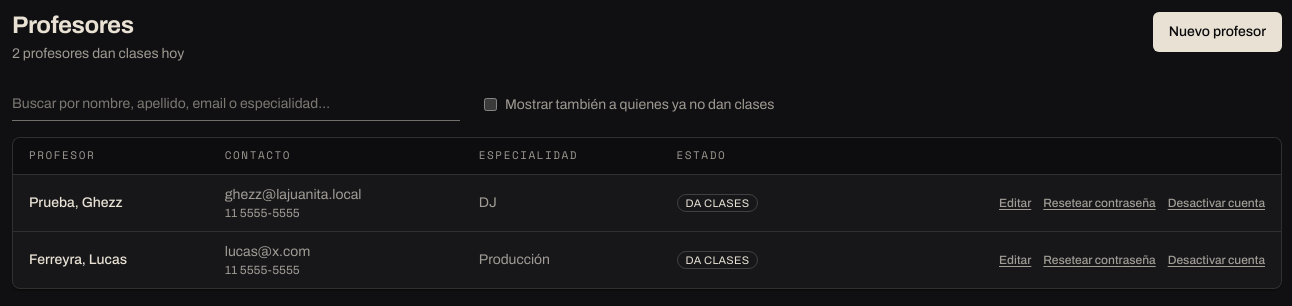
Test: el listado › busca por nombre, email o especialidad, sin acentos, y lo dice cuando nadie coincide
Expected: the text "Ferreyra, Lucas" is shown, [29, 252, 127, 267]
Step 1. Type "produccion" into the search field with placeholder "Buscar por nombre, apellido, email o especialidad…" → (236, 105), box [12, 88, 460, 121]
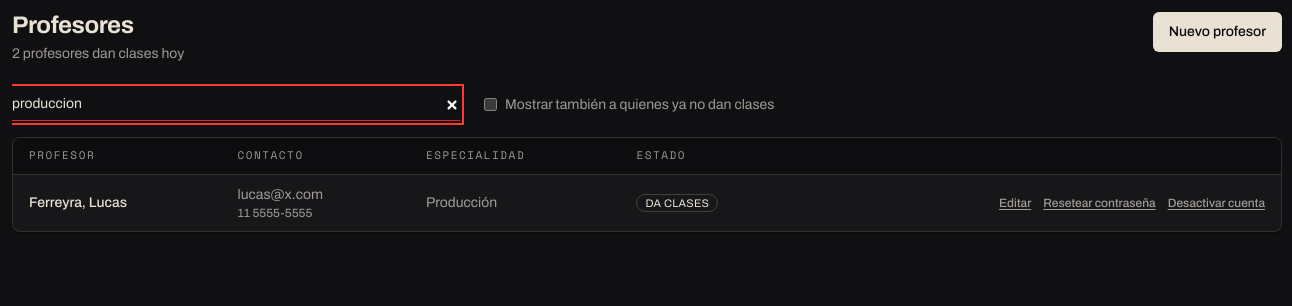
Expected: the text "Ferreyra, Lucas" is shown, [29, 195, 127, 210]
Expected: the text "Prueba, Ghezz" is gone
Step 2. Replace the text in the search field with placeholder "Buscar por nombre, apellido, email o especialidad…" with "nadie" → (236, 105), box [12, 88, 460, 121]
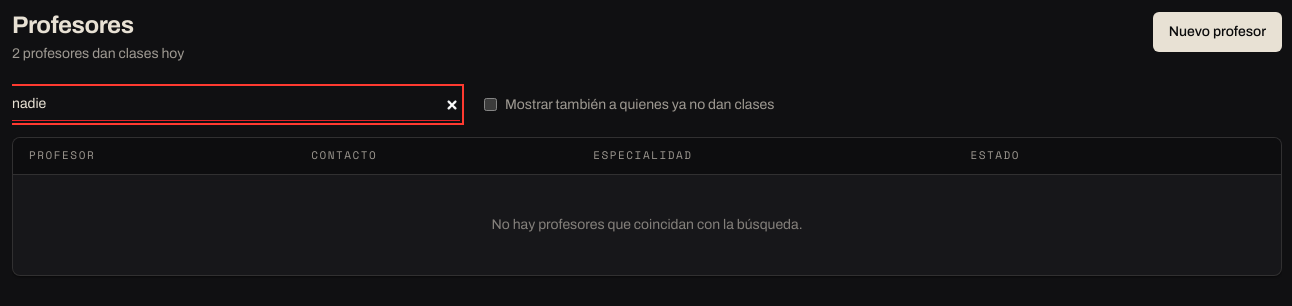
Expected: the text "No hay profesores que coincidan con la búsqueda." is shown, [13, 175, 1281, 275]
